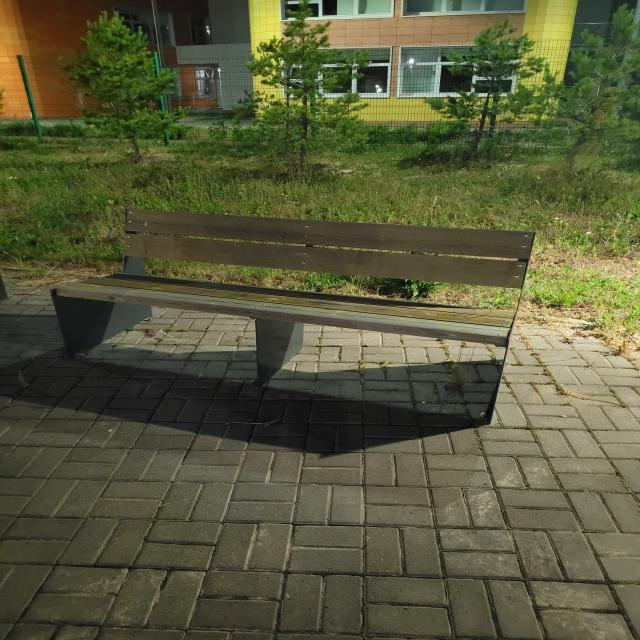Bench: (51, 208, 537, 421)
